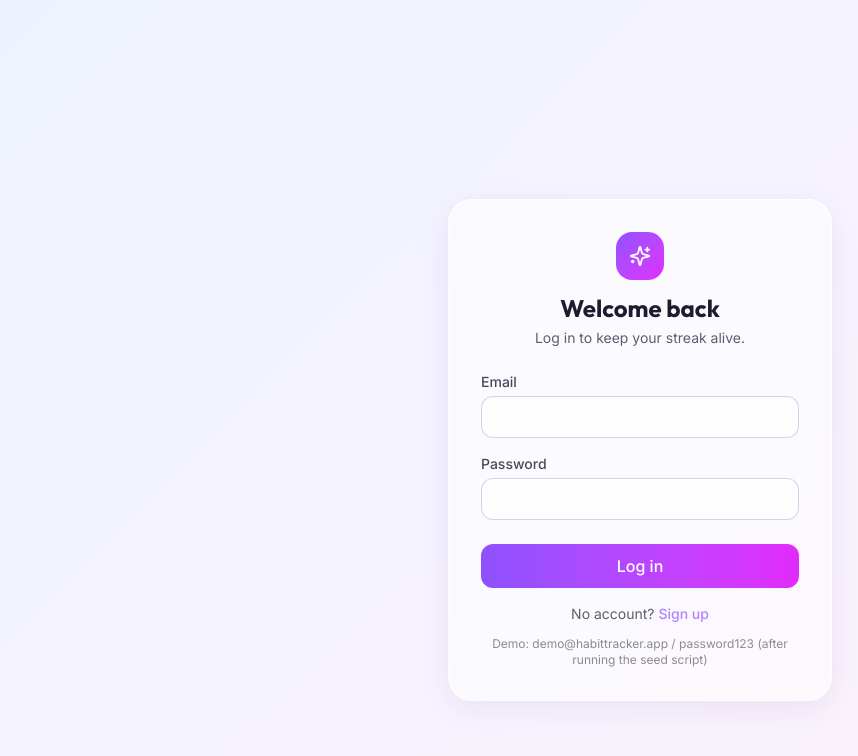
Scenario: Login page › shows the server's error and stays on the page
Type "a@b.co" into the field labelled "Email" at (640, 417), box [481,396,799,438]
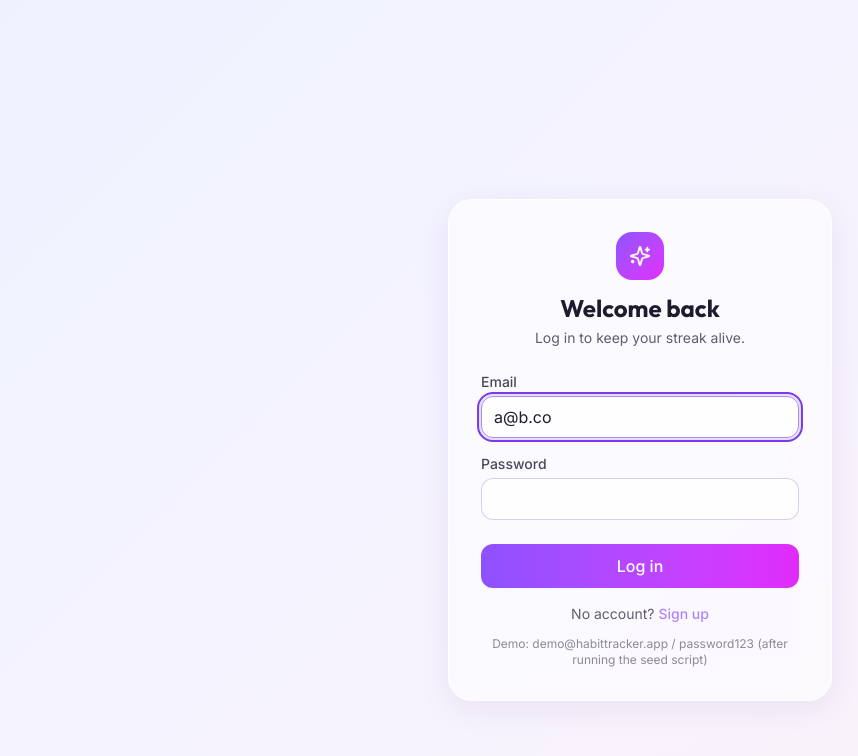
Type "wrongpass1" into the password field labelled "Password" at (640, 499), box [481,478,799,520]
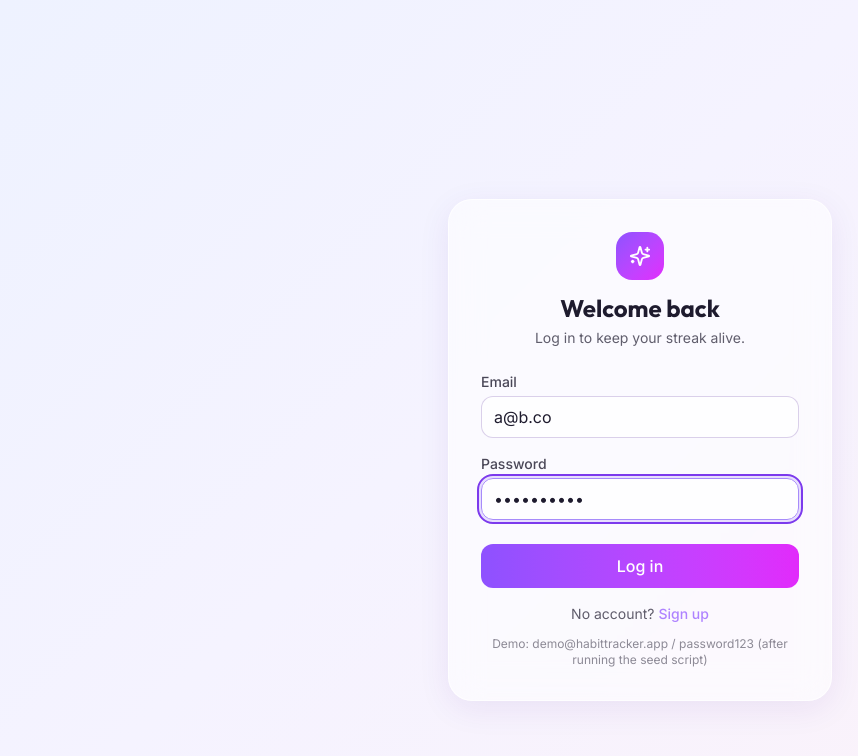
Click the button "Log in" at (640, 566), box [481,544,799,588]
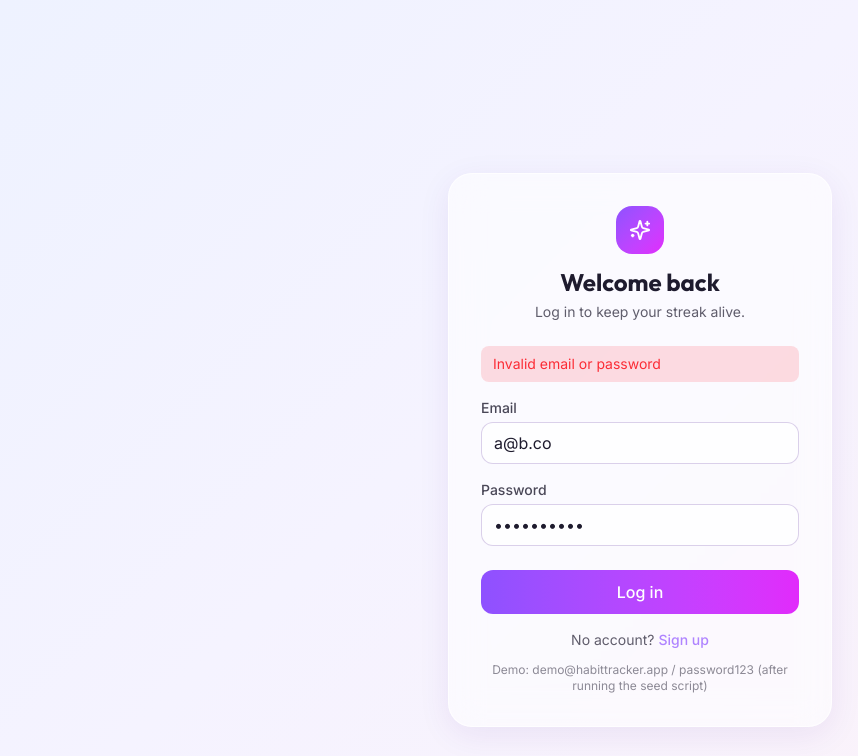
Result: the message reads "Invalid email or password" at [493,355,661,372]
